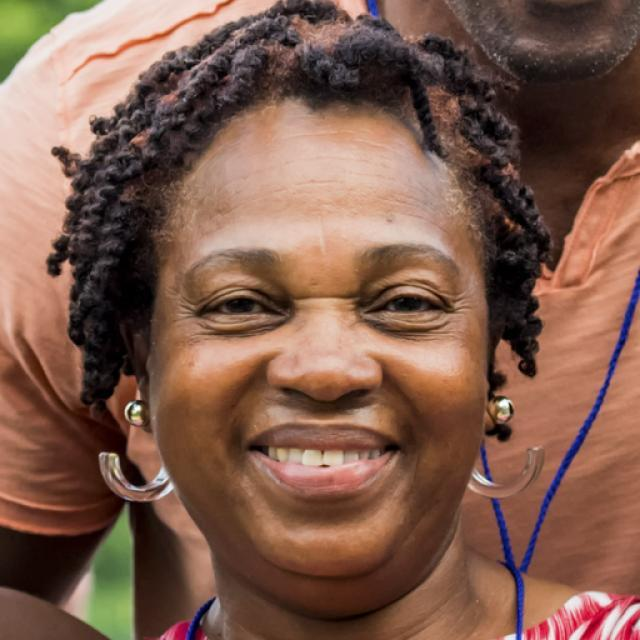happy: (152, 86, 491, 576)
